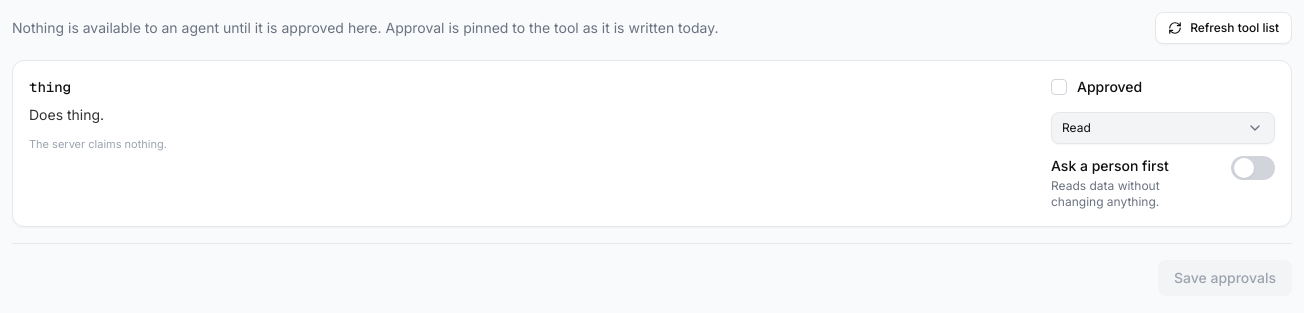
Scenario: destructive tools › pins approval on as soon as the class is changed to destructive
This screenshot has width=1304, height=313.
Check: the switch named "Ask a person first" is not checked, box [1231,156,1275,180]
Select "Destructive" in the dropdown named "Risk class for thing": (1163, 128) [1051,112,1275,144]
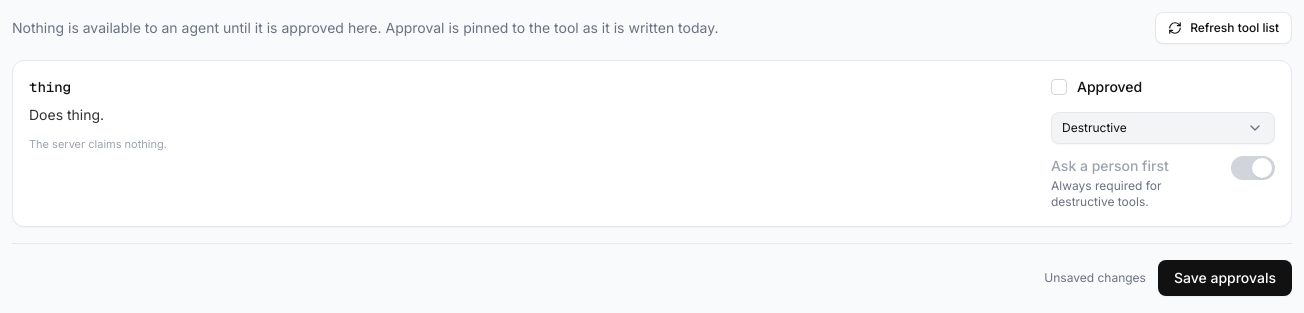
Check: the switch named "Ask a person first" is checked, box [1231,156,1275,180]
Check: the switch named "Ask a person first" is disabled, box [1231,156,1275,180]
